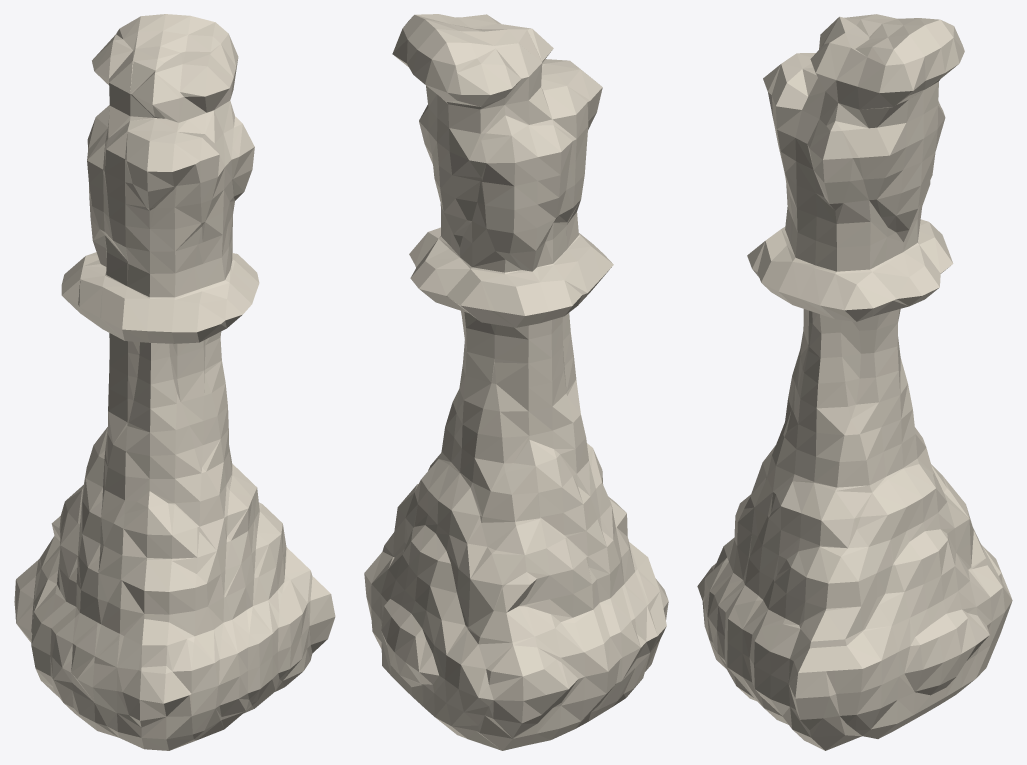
File: bishop.glb
3 views of the same model, side by side, from view 1: azimuth 30°, elevation 25°; view 2: azimuth 150°, elevation 25°; view 3: azimuth 270°, elevation 25° (orthographic). The views are drawn at different scales.
Visible parts, largest first — view 1: bishop; view 2: bishop; view 3: bishop.
Part boxes in pixels (x1=…): bishop: x1=14, y1=14, x2=335, y2=750; bishop: x1=364, y1=14, x2=668, y2=750; bishop: x1=697, y1=14, x2=1012, y2=750.
Bounding box in the file's own units: 0.4404 × 1.06 × 0.4408.
